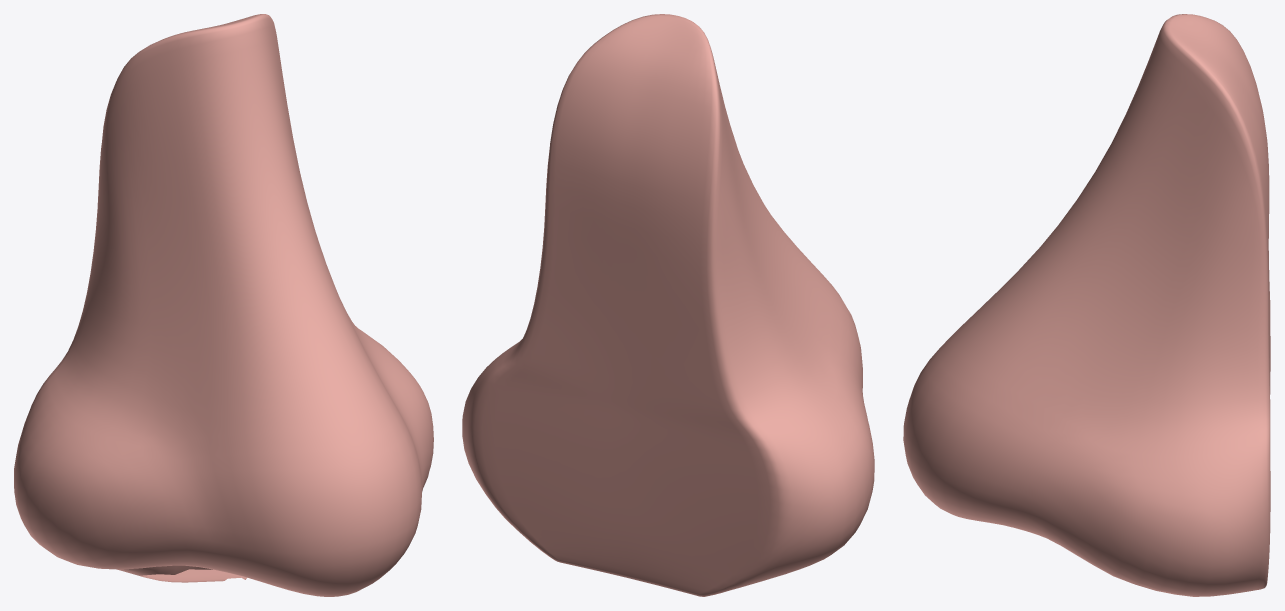
File: Hidung.glb
3 renders of one model, left to right at view 1: azimuth 30°, elevation 25°; view 2: azimuth 150°, elevation 25°; view 3: azimuth 270°, elevation 25°, orthographic.
Parts seen in each view (by area): view 1: imagetostl_mesh0; view 2: imagetostl_mesh0; view 3: imagetostl_mesh0.
Boxes of the visible parts, bbox=[...] form: imagetostl_mesh0: bbox=[14, 14, 433, 596]; imagetostl_mesh0: bbox=[462, 14, 874, 596]; imagetostl_mesh0: bbox=[903, 14, 1270, 596].
Size of the model in its own units: 8.25 by 10.94 by 6.89.
